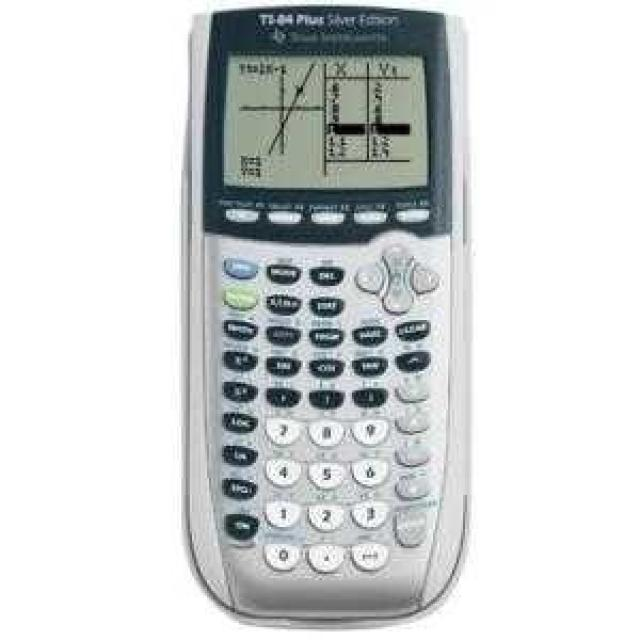Calculator: (179, 0, 472, 627)
